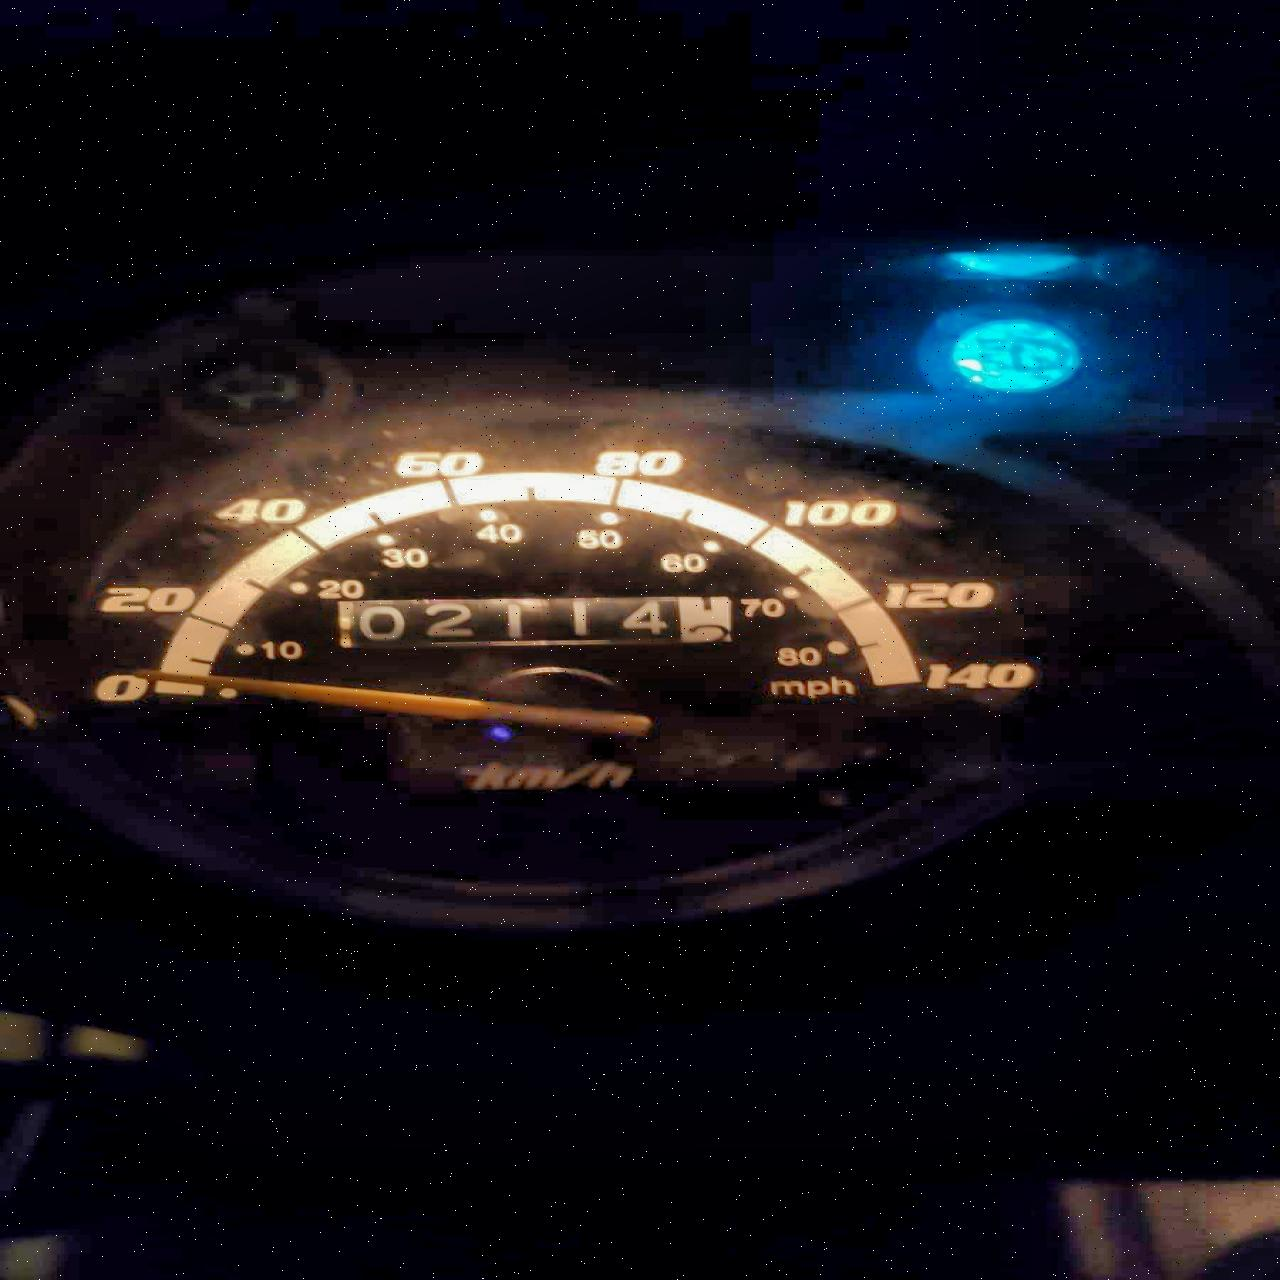0: (356, 606, 413, 642)
1: (496, 599, 532, 639), (566, 598, 598, 636)
2: (424, 600, 475, 638), (685, 618, 734, 647)
4: (618, 598, 672, 636)
odometer: (332, 593, 737, 649)
